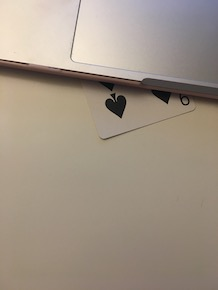NineOfSpades: (74, 55, 199, 140)
